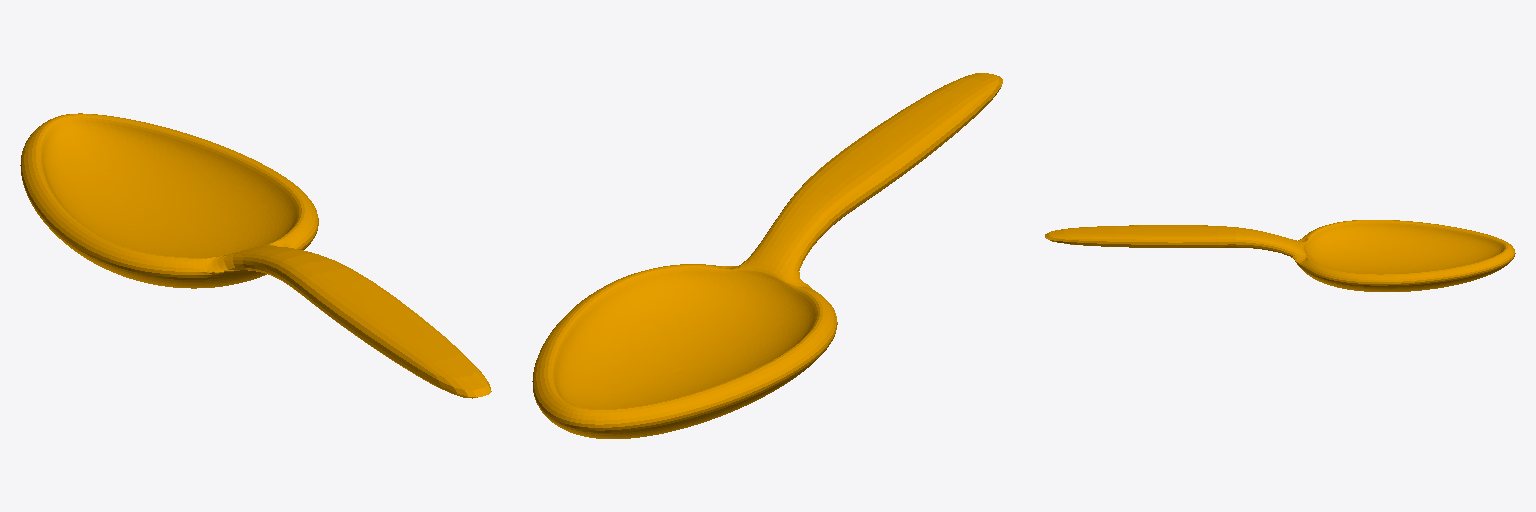
The robot description file, URDF, robot "spoon":
<robot name="spoon">
    <link name="spoon">
        <visual>
            <geometry>
                <mesh filename="meshes/spoon.stl" />
            </geometry>
        </visual>
        <collision>
            <geometry>
                <mesh filename="meshes/spoon.stl"/>
            </geometry>
        </collision>
        <inertial>
            <mass value="0.01"/>
            <inertia ixx="1.0" iyy="1.0" izz="1.0" ixy="0" ixz="0" iyz="0"/>
        </inertial>
    </link>
</robot>

--- What the picture shows (computed from the rendered views, not written in the file) ---
Views: 3 orthographic renders of the robot side by side, from view 1: azimuth 30°, elevation 25°; view 2: azimuth 150°, elevation 25°; view 3: azimuth 270°, elevation 25°.
Model spoon with 1 links and 0 joints (none), rooted at spoon, posed all joints at 0.
Visible links, largest first — view 1: spoon; view 2: spoon; view 3: spoon.
Link boxes in pixels (<box>): spoon: <box>20,113,491,398</box>; spoon: <box>532,73,1002,438</box>; spoon: <box>1045,220,1515,291</box>.
Bounding box of the posed robot: 0.9455 × 3.06 × 0.3698 m (x, y, z).
Meshes: 1 distinct files referenced, 1 mesh visuals loaded (1 binary STL).
